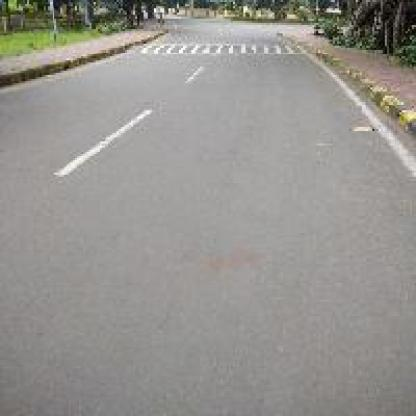Speed Bump: (136, 40, 298, 56)
